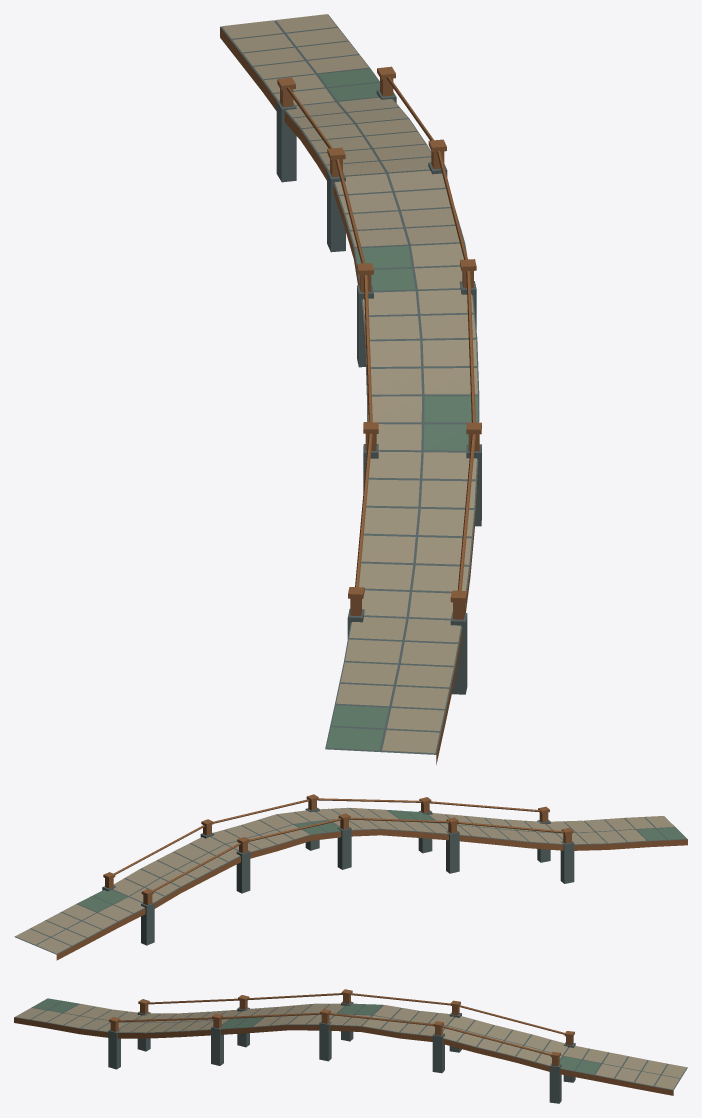
File: 3_mineral_spring_0.glb
3 views of the same model, one above another, from view 1: azimuth 30°, elevation 25°; view 2: azimuth 150°, elevation 25°; view 3: azimuth 270°, elevation 25° (orthographic). The views are drawn at different scales.
Parts seen in each view (by area): view 1: Detail_13_14, Detail_12_14, Deck_13_14-col, Deck_12_14-col, Detail_13_13; view 2: Detail_13_14, Detail_12_14, Deck_13_14-col, Deck_12_14-col, Detail_13_13; view 3: Detail_13_14, Detail_12_14, Deck_13_14-col, Deck_12_14-col, Detail_13_13.
Boxes of the visible parts, x1,y1,x2,y2 form: Detail_13_14: (220, 27, 481, 693); Detail_12_14: (326, 433, 468, 764); Deck_13_14-col: (220, 14, 479, 509); Deck_12_14-col: (325, 507, 475, 754); Detail_13_13: (222, 14, 336, 38); Detail_13_14: (31, 794, 542, 960); Detail_12_14: (457, 806, 687, 883); Deck_13_14-col: (14, 808, 490, 954); Deck_12_14-col: (464, 816, 687, 844); Detail_13_13: (15, 929, 70, 953); Detail_13_14: (108, 989, 673, 1103); Detail_12_14: (14, 998, 239, 1051); Deck_13_14-col: (181, 1004, 687, 1090); Deck_12_14-col: (14, 1001, 210, 1033); Detail_13_13: (655, 1064, 686, 1089).
Size of the model in its own units: 16.21 by 5.79 by 30.07.
